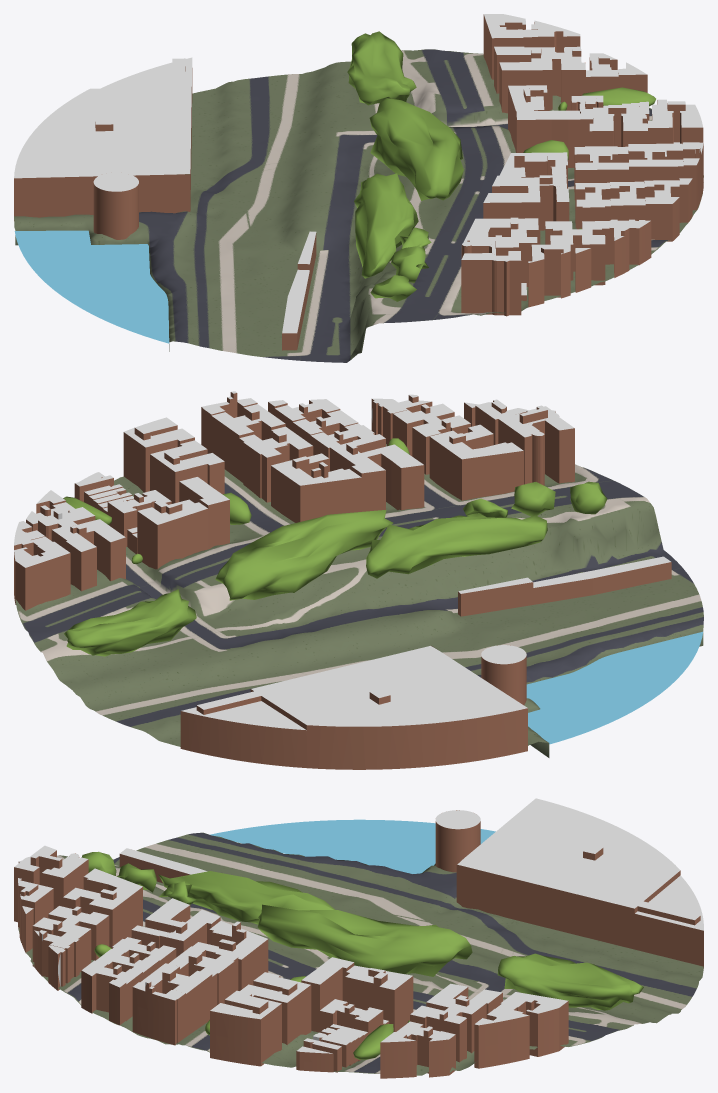
3 views of the same model, one above another, from view 1: azimuth 30°, elevation 25°; view 2: azimuth 150°, elevation 25°; view 3: azimuth 270°, elevation 25° (orthographic).
Visible parts, largest first — view 1: ground.001, 1084789, park-trees, ground, Object.038, 1062289, 1059970, 1089583, 1062264, 1059979, 1059950, 1062265 (+21 smaller); view 2: ground.001, 1084789, park-trees, ground, 1059980, 1087748, 1059970, 1059969, 1062289, Object.038, 1062283, 1079499 (+16 smaller); view 3: ground.001, 1084789, park-trees, ground, 1062266, 1059980, 1062289, 1062283, 1059970, 1079500, 1059966, 1079499 (+23 smaller).
Boxes of the visible parts, <box> form: ground.001: <box>14,49,703,362</box>; 1084789: <box>14,57,192,220</box>; park-trees: <box>347,31,463,301</box>; ground: <box>14,230,169,343</box>; Object.038: <box>461,235,526,316</box>; 1062289: <box>494,46,585,113</box>; 1059970: <box>483,175,569,244</box>; 1089583: <box>93,172,138,239</box>; 1062264: <box>516,109,580,167</box>; 1059979: <box>545,221,609,285</box>; 1059950: <box>528,244,570,307</box>; 1062265: <box>589,105,647,146</box>; ground.001: <box>15,444,703,757</box>; 1084789: <box>180,645,527,769</box>; park-trees: <box>64,481,607,656</box>; ground: <box>526,631,703,744</box>; 1059980: <box>429,424,523,500</box>; 1087748: <box>458,556,671,616</box>; 1059970: <box>330,434,424,511</box>; 1059969: <box>271,453,361,522</box>; 1062289: <box>38,507,125,591</box>; Object.038: <box>498,405,574,485</box>; 1062283: <box>137,499,208,569</box>; 1079499: <box>14,536,70,610</box>; ground.001: <box>18,832,703,1075</box>; 1084789: <box>456,798,703,968</box>; park-trees: <box>81,851,643,1010</box>; ground: <box>210,819,495,873</box>; 1062266: <box>210,990,281,1066</box>; 1059980: <box>63,868,142,948</box>; 1062289: <box>410,983,502,1062</box>; 1062283: <box>345,965,413,1031</box>; 1059970: <box>131,898,220,957</box>; 1079500: <box>474,1009,529,1068</box>; 1059966: <box>132,980,185,1045</box>; 1079499: <box>495,992,568,1056</box>.
Bounding box in the file's own units: 329 × 60.02 × 331.
5 materials, 1 textured.
